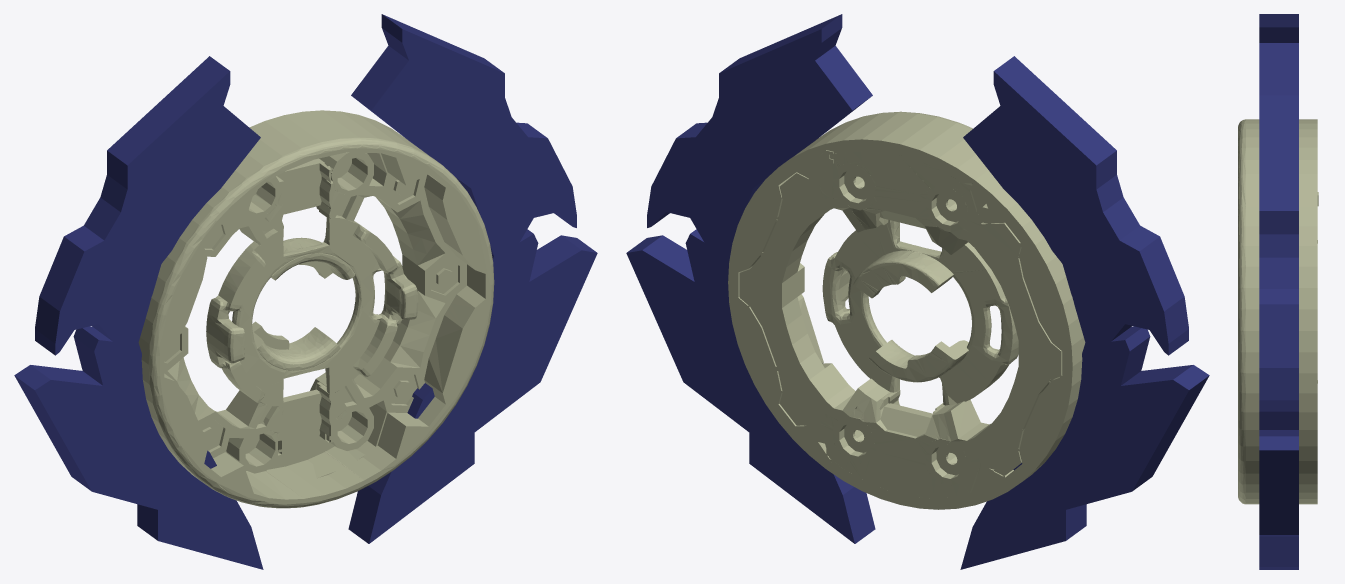
The model's file is gtbuster.obj.
The picture shows the model from 3 angles, left to right: view 1: azimuth 30°, elevation 25°; view 2: azimuth 150°, elevation 25°; view 3: azimuth 270°, elevation 25°; orthographic projection. The views are drawn at different scales.
Visible parts, largest first — view 1: group_0_3356795, group_0_11909273; view 2: group_0_3356795, group_0_11909273; view 3: group_0_3356795, group_0_11909273.
Boxes of the visible parts, x1,y1,x2,y2 form: group_0_3356795: (14,14,597,569); group_0_11909273: (138,110,494,508); group_0_3356795: (626,14,1209,569); group_0_11909273: (728,111,1085,509); group_0_3356795: (1259,14,1298,569); group_0_11909273: (1238,119,1318,504).
Size of the model in its own units: 79 by 68 by 11.68.
